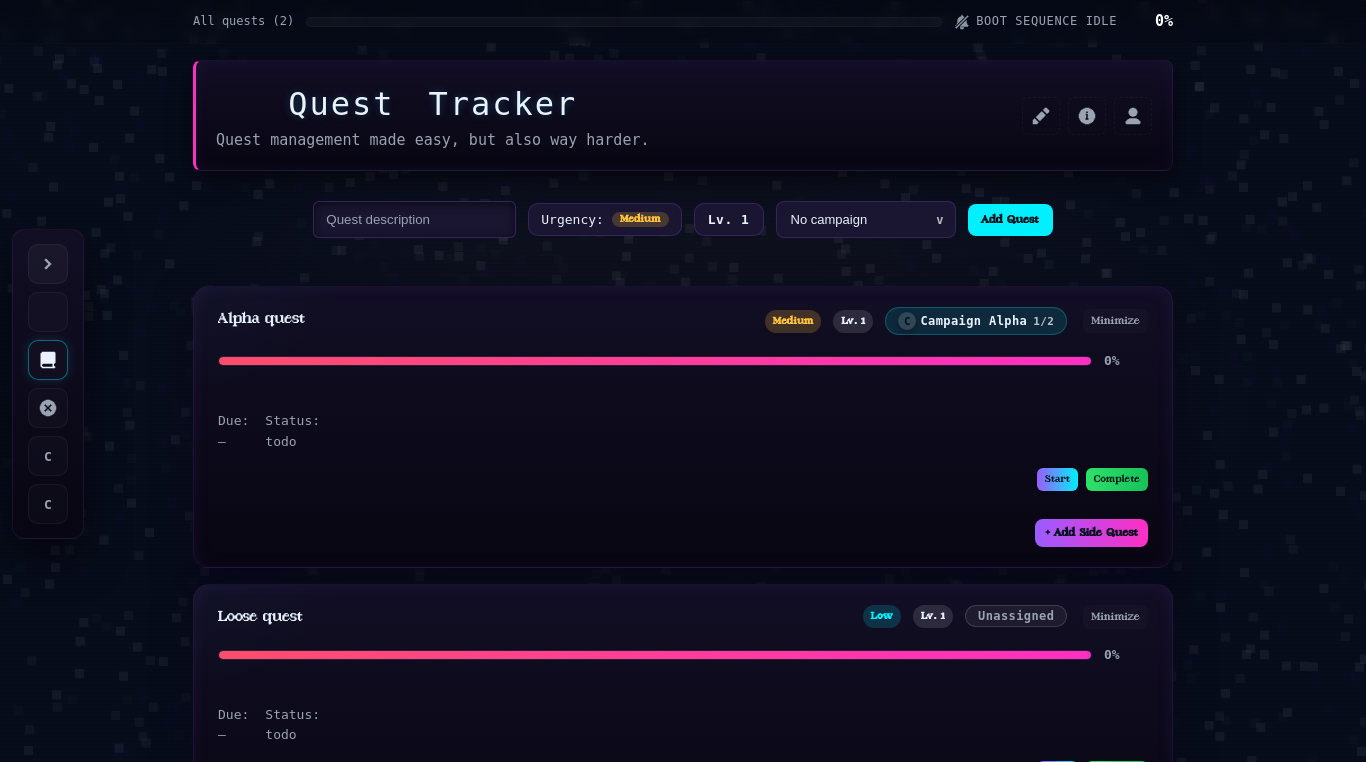
campaign sidebar filters quests and fetches scoped tasks
Check: the heading "Alpha quest" is shown, box [218,311,305,326]
Click the button named "Expand campaigns panel" at (48, 264), box [28,244,68,284]
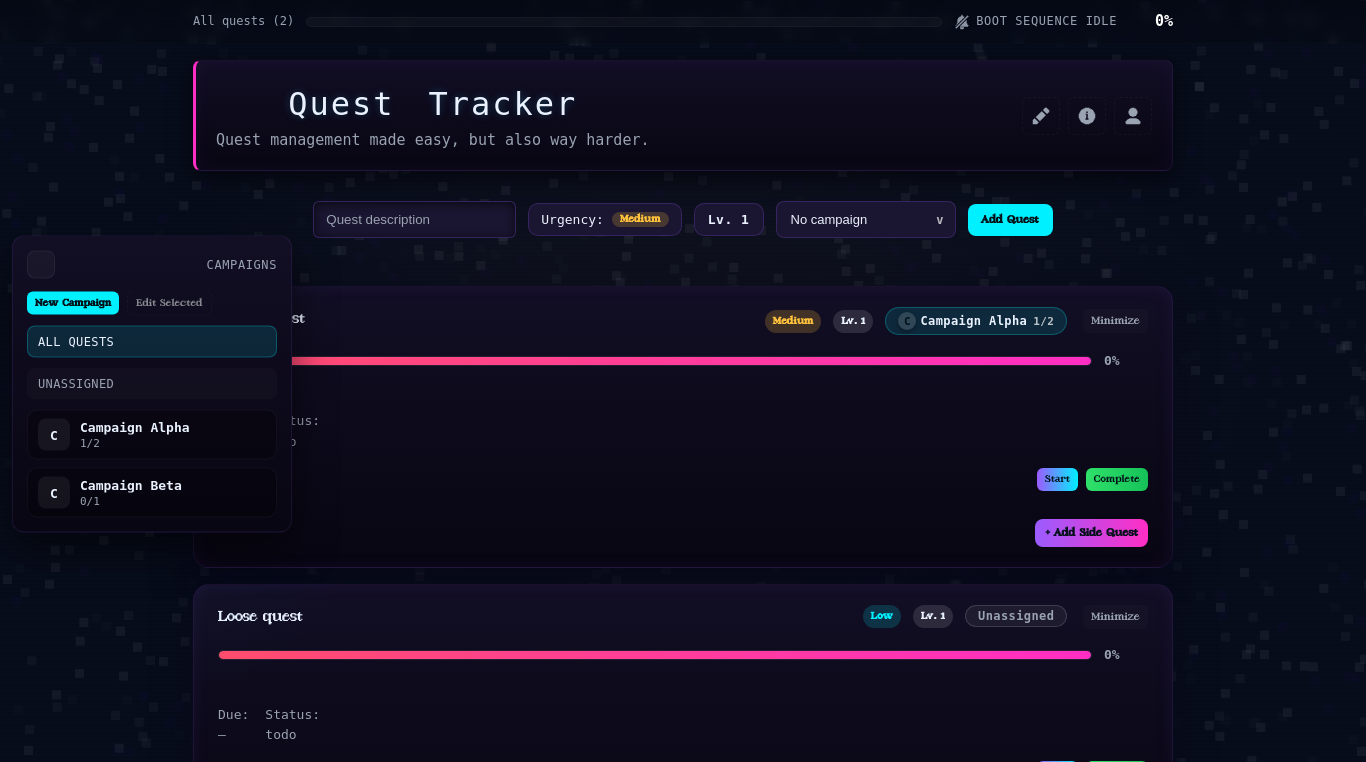
Click the button "C Campaign Alpha 1/2" at (152, 434), box [27,410,277,460]
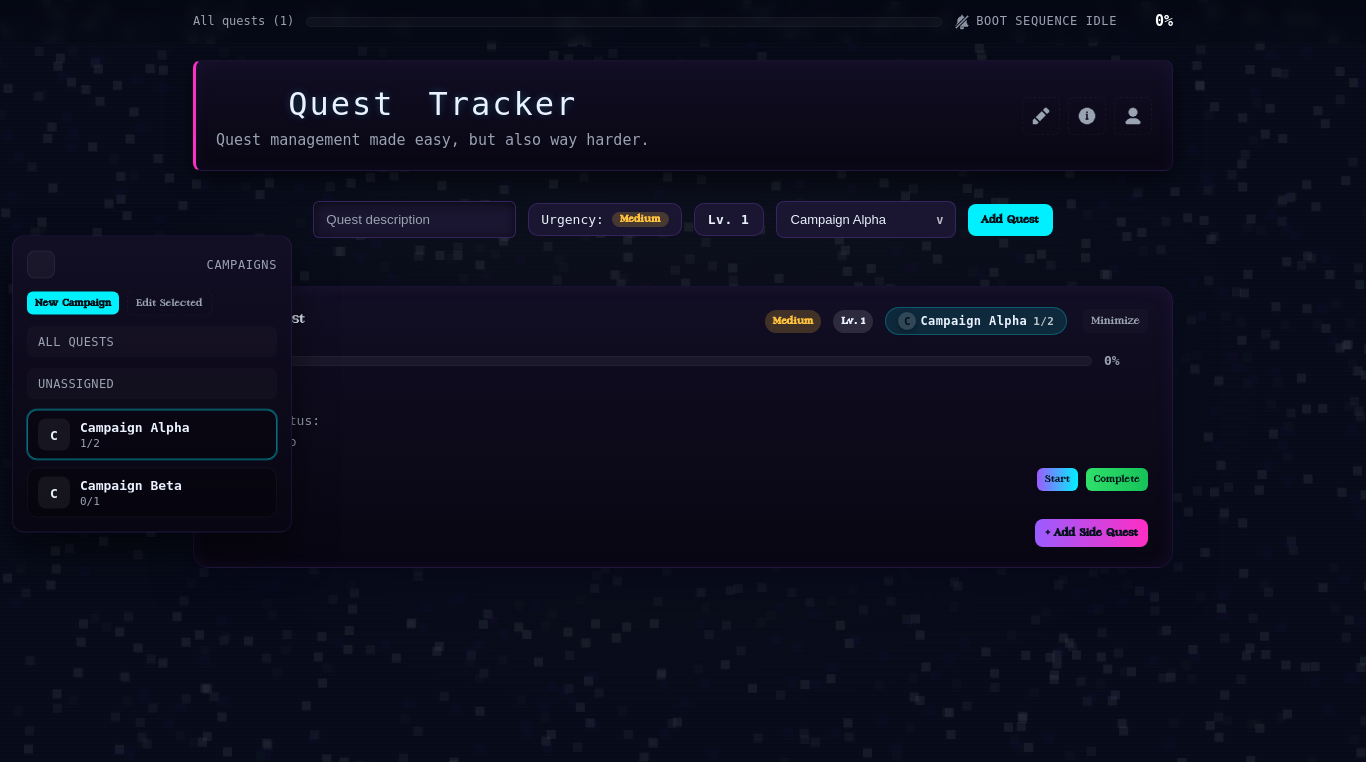
Check: the heading "Alpha quest" is shown, box [218,311,305,326]
Check: the button "Loose quest" is gone
